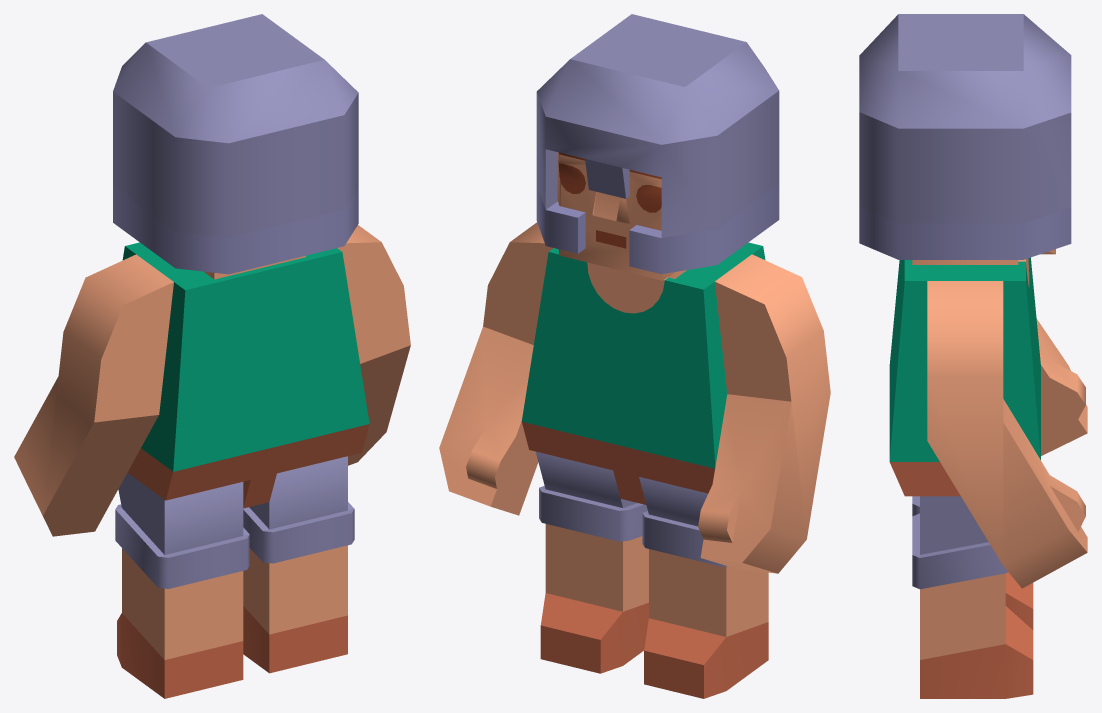
Rendered from Guy.glb.
The picture shows the model from 3 angles, left to right: view 1: azimuth 30°, elevation 25°; view 2: azimuth 150°, elevation 25°; view 3: azimuth 270°, elevation 25°; orthographic projection.
Visible parts, largest first — view 1: mergedBlocks(Clone); view 2: mergedBlocks(Clone); view 3: mergedBlocks(Clone).
Part boxes in pixels (box(x1,y1,x2,y2)): mergedBlocks(Clone): box(14, 14, 410, 698); mergedBlocks(Clone): box(439, 14, 830, 698); mergedBlocks(Clone): box(859, 14, 1087, 698).
Bounding box in the file's own units: 0.5251 × 0.8914 × 0.3016.
